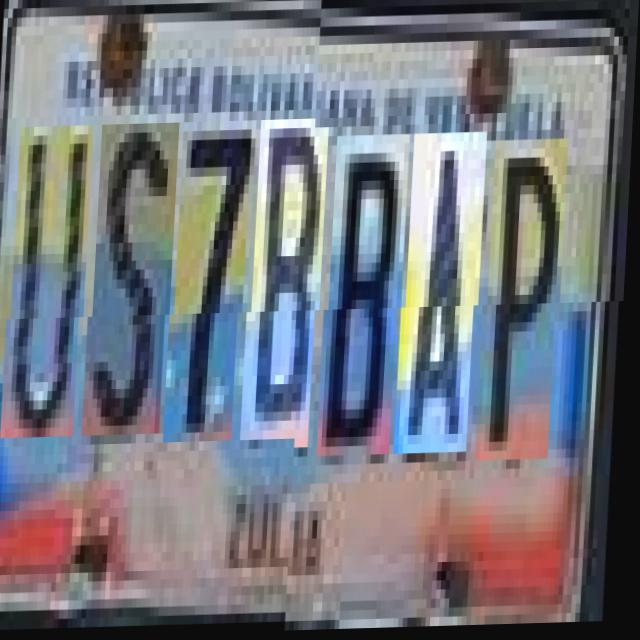7: (172, 131, 253, 453)
A: (403, 135, 489, 457)
B: (326, 136, 412, 458), (250, 129, 330, 451)
P: (484, 142, 570, 464)
S: (90, 132, 180, 446)
U: (9, 134, 94, 448)
